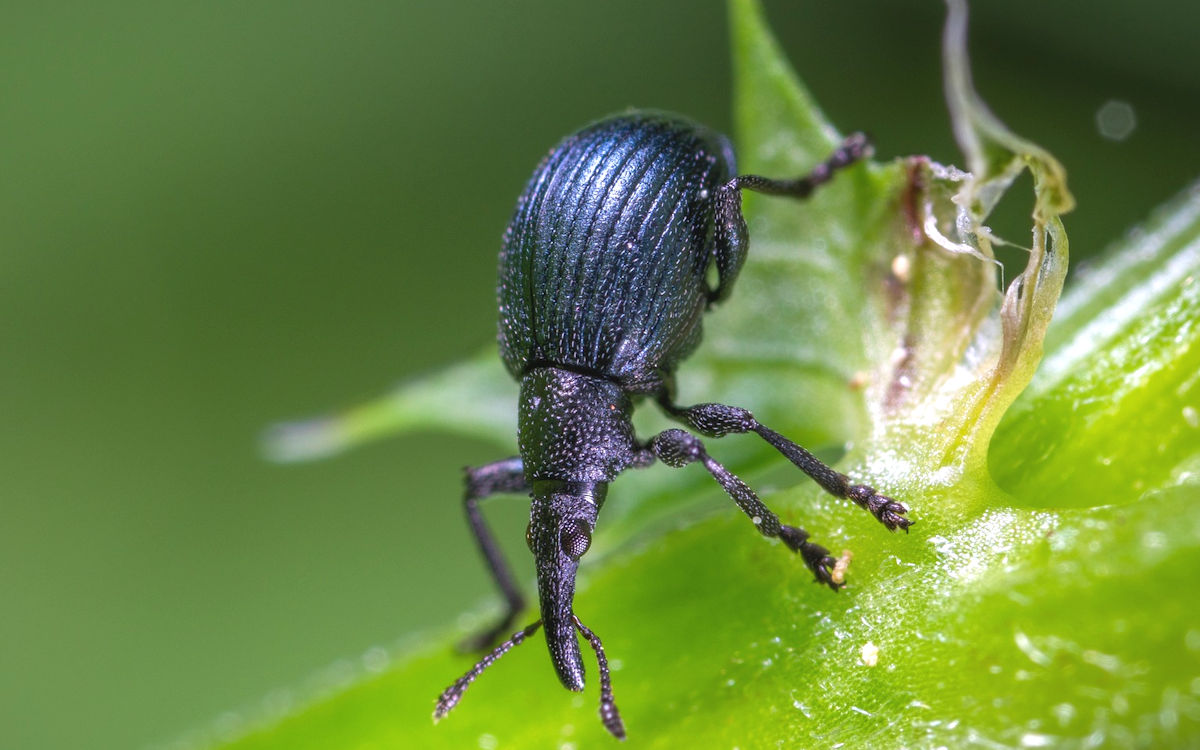dolgonosik: (441, 92, 932, 750)
